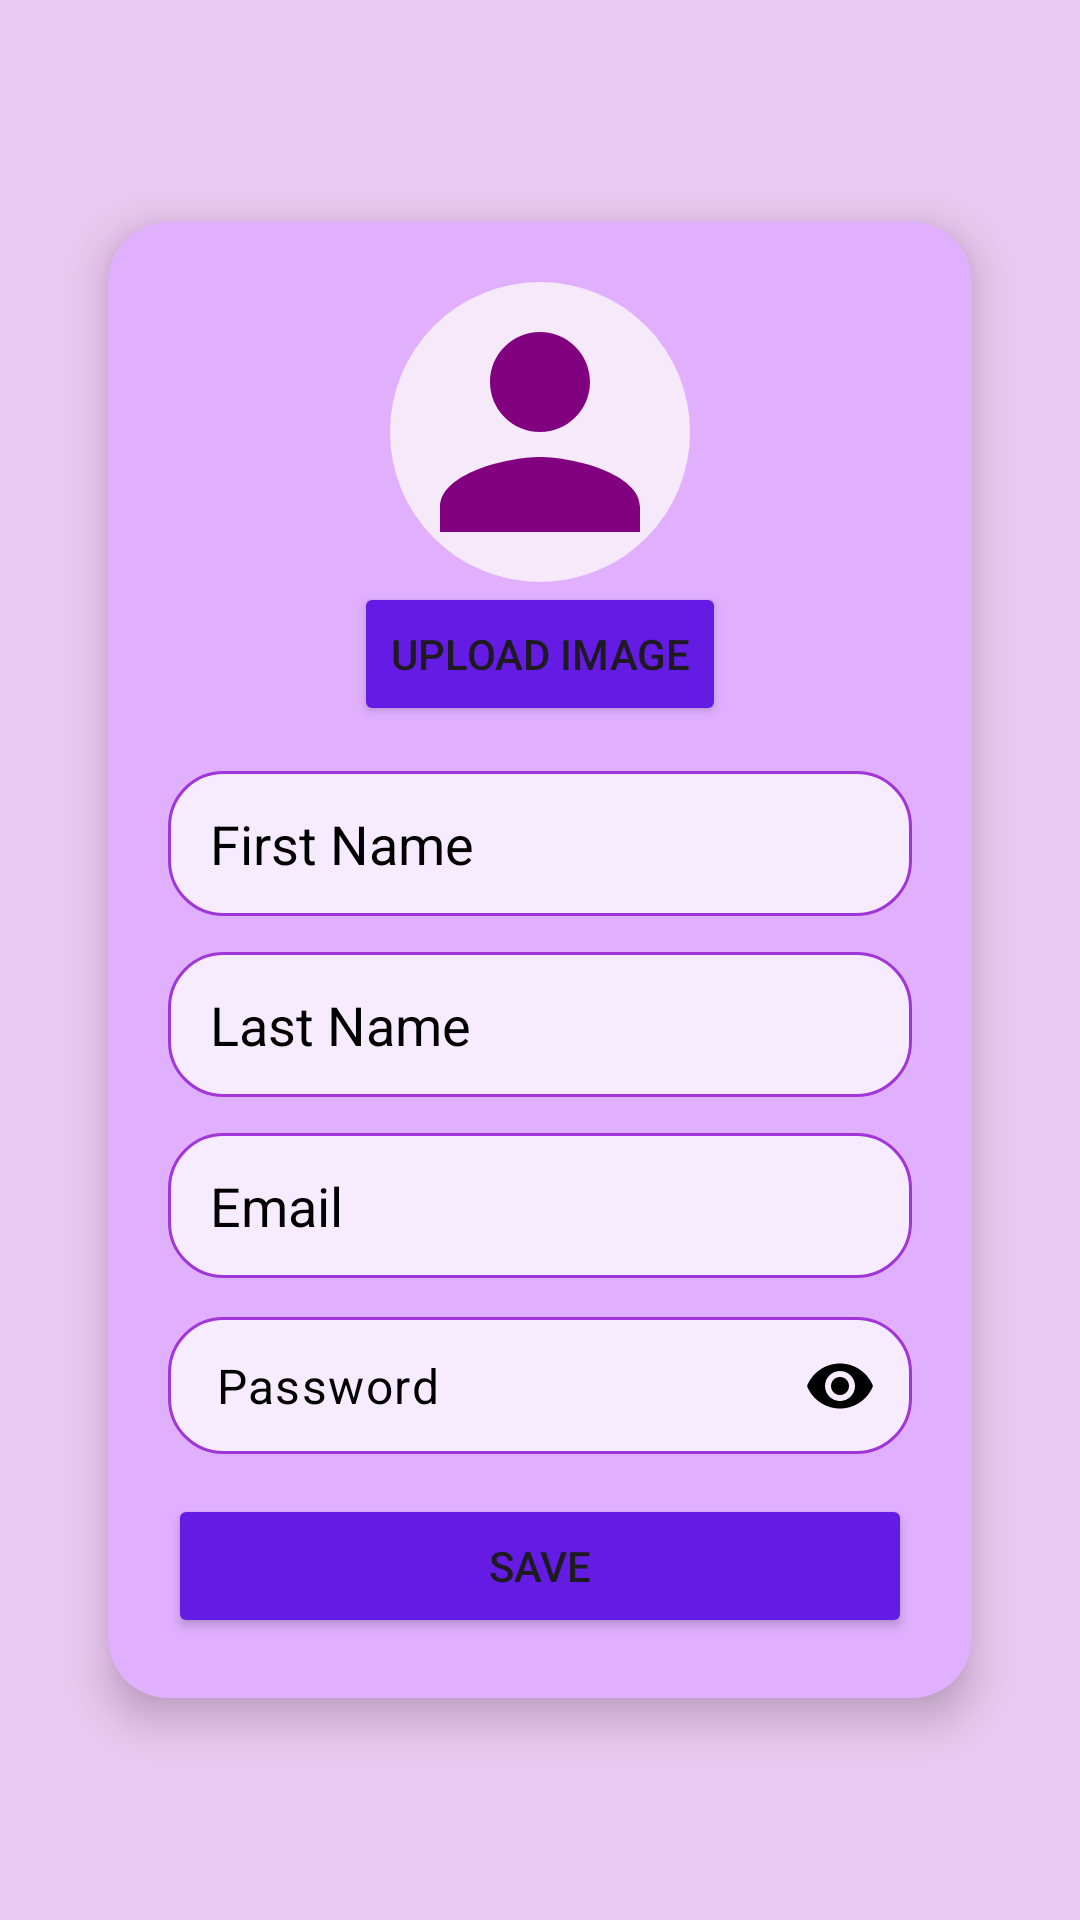

Screen size 1080 × 1920. Icon name, then its box in pixels as region(x1, y1, x2, y2):
account circle: region(390, 282, 690, 582)
